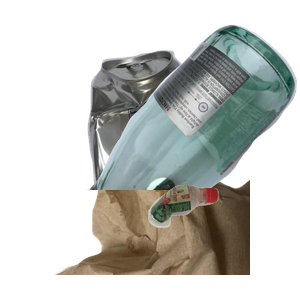glass: (86, 22, 300, 202)
metal: (85, 48, 300, 228)
plastic: (146, 182, 300, 300)
trash: (52, 120, 292, 300)
